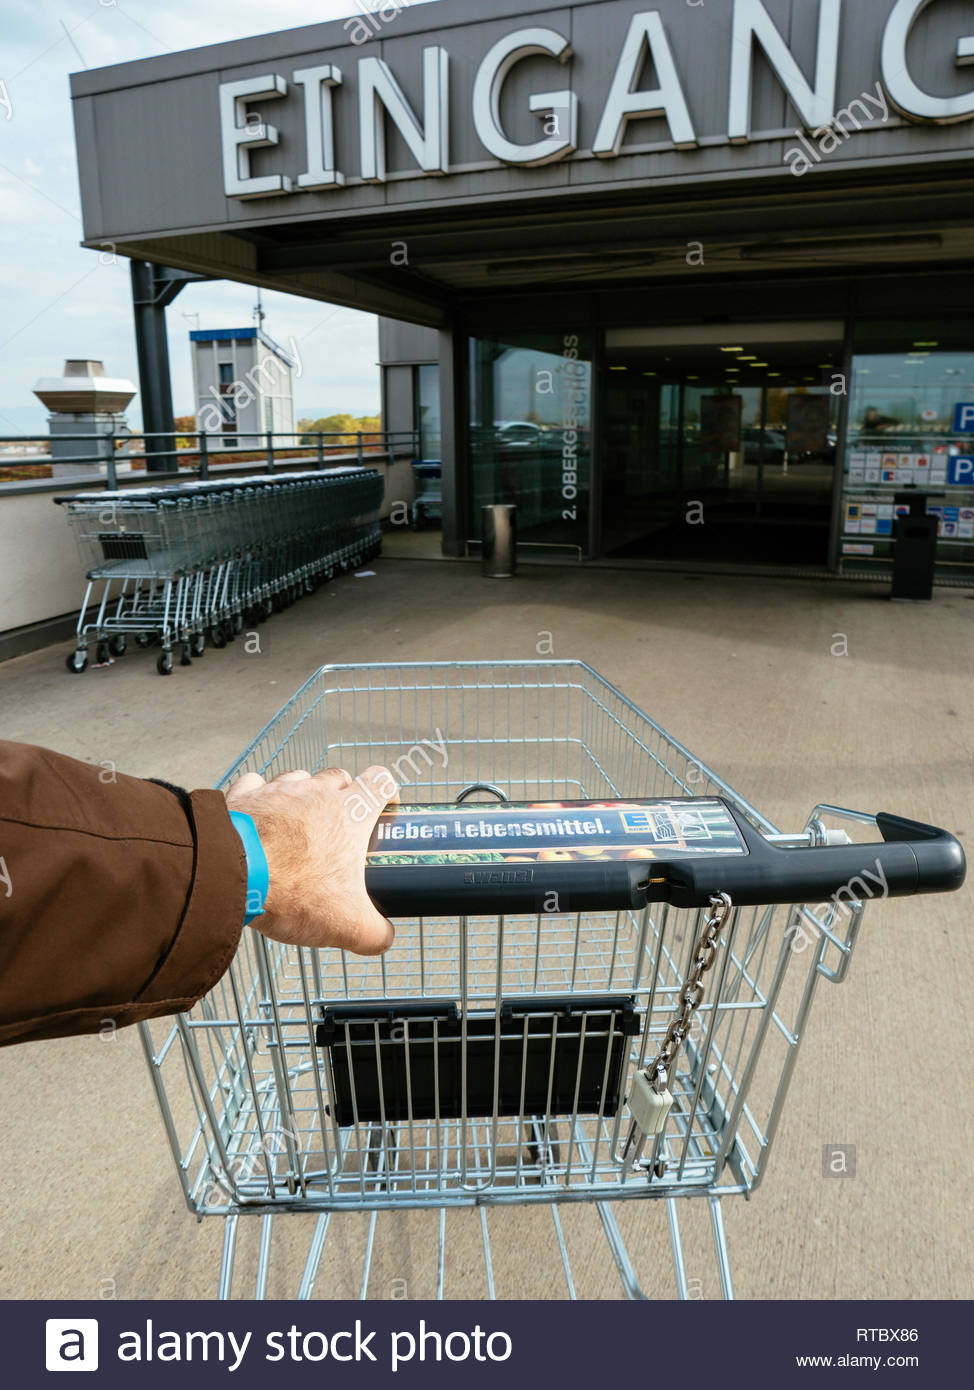with_basket: (148, 656, 955, 1294)
